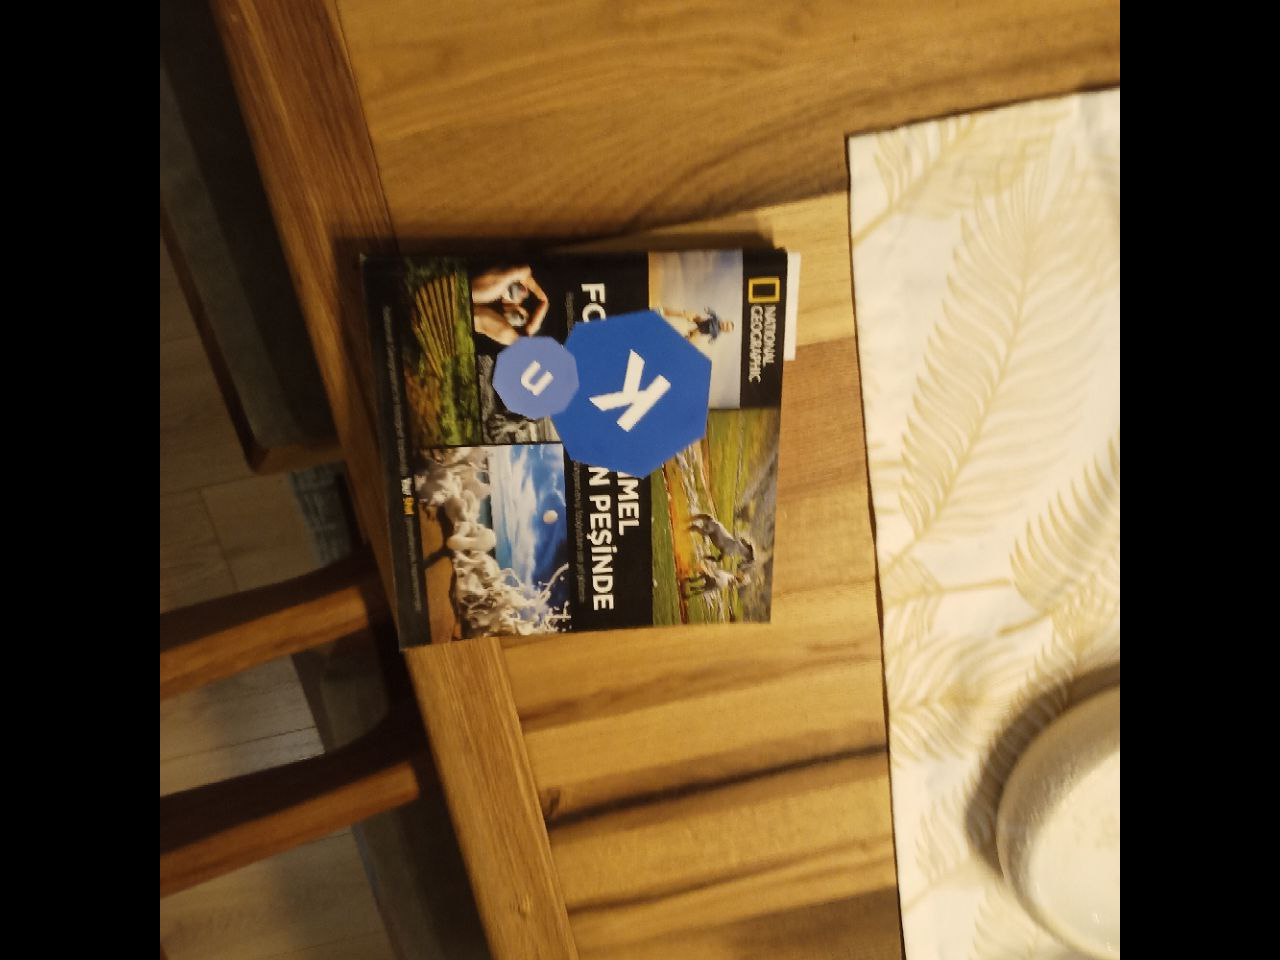knative: (489, 306, 714, 481)
